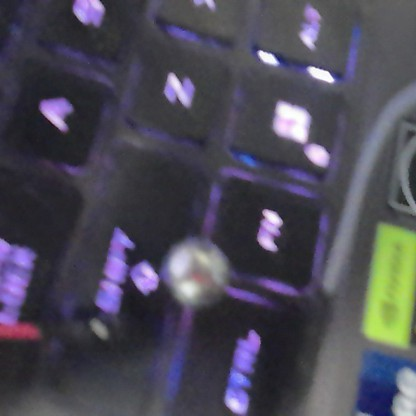ironball: (157, 233, 230, 309)
